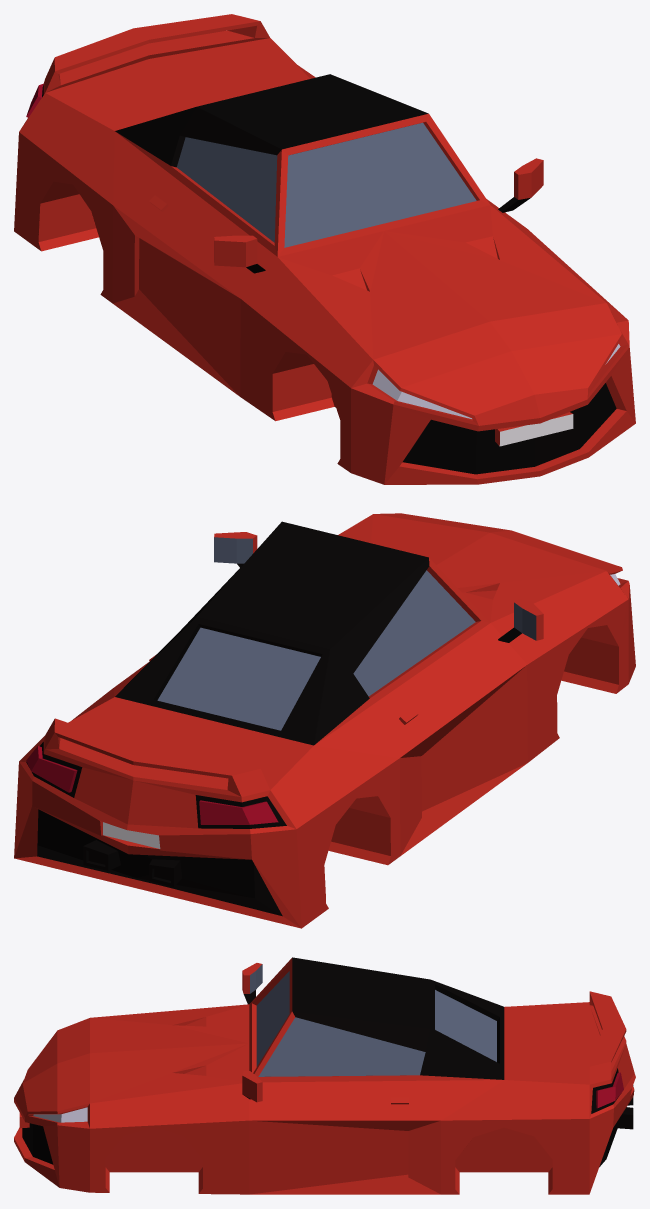
The model's file is body_sports.glb.
3 renders of one model, top to bottom at view 1: azimuth 30°, elevation 25°; view 2: azimuth 150°, elevation 25°; view 3: azimuth 270°, elevation 25°, orthographic. The views are drawn at different scales.
Parts seen in each view (by area): view 1: Sports_body red_0; view 2: Sports_body red_0; view 3: Sports_body red_0.
Part boxes in pixels (<box>): Sports_body red_0: <box>14,14,635,484</box>; Sports_body red_0: <box>14,513,635,928</box>; Sports_body red_0: <box>14,957,635,1194</box>.
Size of the model in its own units: 2.63 by 1.6 by 5.73.
